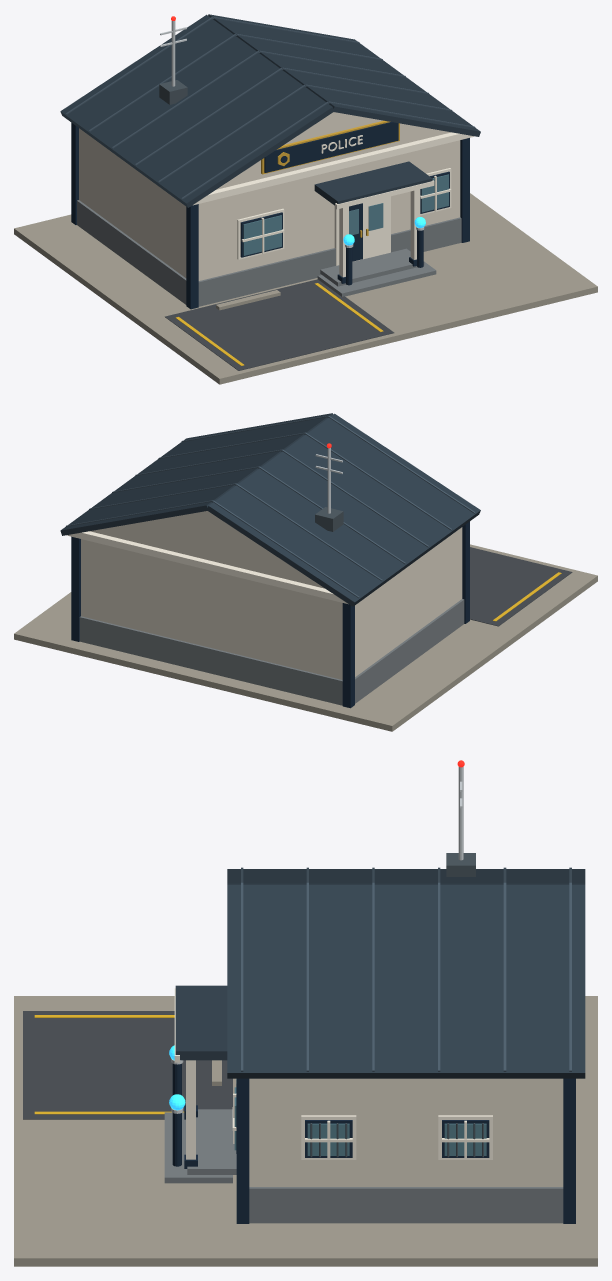
The model's file is police_station.glb.
3 renders of one model, top to bottom at view 1: azimuth 30°, elevation 25°; view 2: azimuth 150°, elevation 25°; view 3: azimuth 270°, elevation 25°, orthographic. The views are drawn at different scales.
Parts seen in each view (by area): view 1: ApronSlab, RoofPlane, MainBody, RoofPlane.001, SquadPad, WallBase, GableInfill, CorniceFront, PorticoRoof, SignBoard, PorticoSteps2, DoorFrame (+12 smaller); view 2: MainBody, RoofPlane, ApronSlab, RoofPlane.001, WallBase, GableInfill, SquadPad, CorniceBack, CornerPilaster.001, CornerPilaster.003, CornerPilaster, MastBase; view 3: RoofPlane.001, ApronSlab, MainBody, SquadPad, WallBase, RoofPlane, PorticoRoof, PorticoSteps2, CornerPilaster.002, CornerPilaster.003, PorticoSteps1, WinGlass.002 (+6 smaller).
Part boxes in pixels (left/top/right/bottom): ApronSlab: left=14, top=193, right=597, bottom=384; RoofPlane: left=60, top=14, right=334, bottom=207; MainBody: left=79, top=128, right=460, bottom=280; RoofPlane.001: left=208, top=14, right=480, bottom=136; SquadPad: left=165, top=279, right=394, bottom=370; WallBase: left=77, top=200, right=461, bottom=306; GableInfill: left=216, top=112, right=450, bottom=189; CorniceFront: left=193, top=132, right=473, bottom=205; PorticoRoof: left=314, top=161, right=432, bottom=205; SignBoard: left=264, top=122, right=398, bottom=172; PorticoSteps2: left=320, top=248, right=424, bottom=286; DoorFrame: left=334, top=196, right=390, bottom=265; MainBody: left=81, top=527, right=462, bottom=679; RoofPlane: left=207, top=413, right=480, bottom=606; ApronSlab: left=14, top=544, right=597, bottom=731; RoofPlane.001: left=60, top=413, right=332, bottom=535; WallBase: left=79, top=599, right=464, bottom=705; GableInfill: left=90, top=511, right=324, bottom=588; SquadPad: left=470, top=547, right=572, bottom=626; CorniceBack: left=67, top=531, right=348, bottom=604; CornerPilaster.001: left=342, top=603, right=354, bottom=708; CornerPilaster.003: left=71, top=536, right=80, bottom=641; CornerPilaster: left=462, top=521, right=469, bottom=623; MastBase: left=315, top=507, right=343, bottom=531; RoofPlane.001: left=227, top=885, right=585, bottom=1078; ApronSlab: left=14, top=996, right=597, bottom=1266; MainBody: left=249, top=1078, right=563, bottom=1186; SquadPad: left=23, top=1011, right=232, bottom=1119; WallBase: left=249, top=1187, right=563, bottom=1223; RoofPlane: left=227, top=869, right=585, bottom=884; PorticoRoof: left=175, top=985, right=227, bottom=1060; PorticoSteps2: left=187, top=1109, right=236, bottom=1174; CornerPilaster.002: left=236, top=1078, right=249, bottom=1223; CornerPilaster.003: left=563, top=1078, right=575, bottom=1223; PorticoSteps1: left=164, top=1112, right=232, bottom=1183; WinGlass.002: left=307, top=1123, right=349, bottom=1155.
Size of the model in its own units: 13.6 by 7.76 by 12.8.
